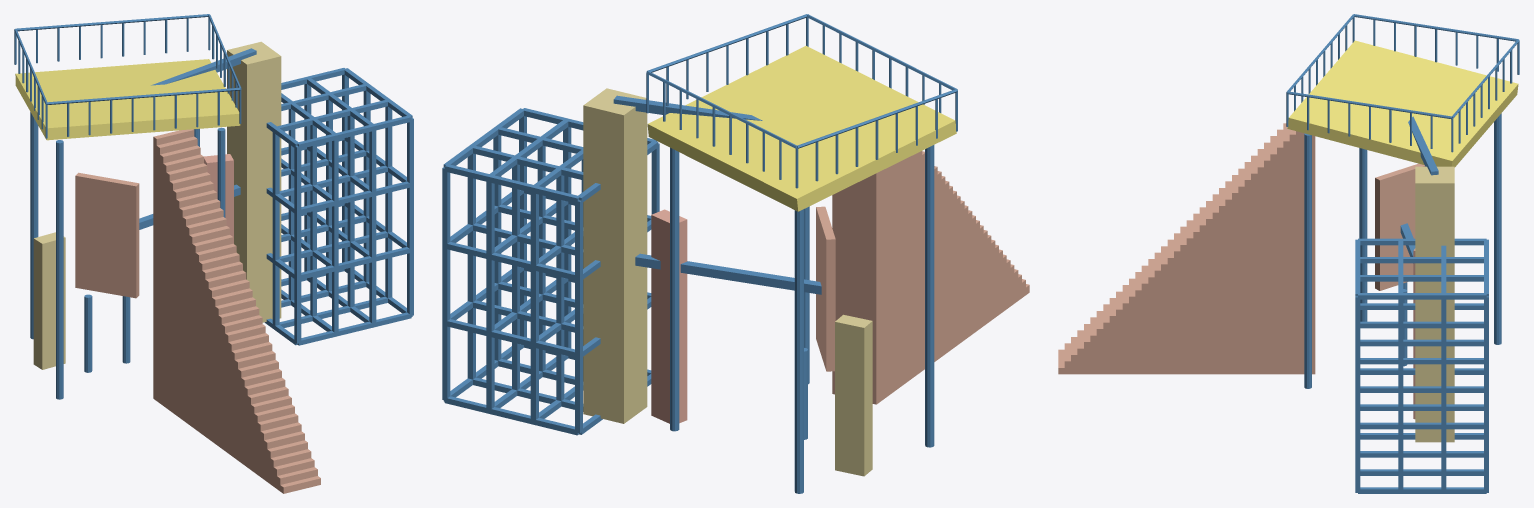
Rendered from folie_tag_106.glb.
3 renders of one model, left to right at view 1: azimuth 30°, elevation 25°; view 2: azimuth 150°, elevation 25°; view 3: azimuth 270°, elevation 25°, orthographic. The views are drawn at different scales.
Parts seen in each view (by area): view 1: folie_tag_106_stairs, folie_tag_106_00_cage, folie_tag_106_01_plate, folie_tag_106_line, folie_tag_106_core, folie_tag_106_03_panel, folie_tag_106_04_fin, folie_tag_106_02_fin; view 2: folie_tag_106_00_cage, folie_tag_106_stairs, folie_tag_106_01_plate, folie_tag_106_core, folie_tag_106_line, folie_tag_106_04_fin, folie_tag_106_02_fin, folie_tag_106_03_panel; view 3: folie_tag_106_stairs, folie_tag_106_00_cage, folie_tag_106_01_plate, folie_tag_106_line, folie_tag_106_core, folie_tag_106_03_panel.
Part boxes in pixels (bbox=[...]): folie_tag_106_stairs: bbox=[153, 129, 320, 493]; folie_tag_106_00_cage: bbox=[264, 68, 413, 345]; folie_tag_106_01_plate: bbox=[15, 59, 240, 140]; folie_tag_106_line: bbox=[14, 14, 256, 399]; folie_tag_106_core: bbox=[227, 41, 281, 322]; folie_tag_106_03_panel: bbox=[75, 172, 139, 298]; folie_tag_106_04_fin: bbox=[33, 232, 65, 369]; folie_tag_106_02_fin: bbox=[204, 154, 233, 243]; folie_tag_106_00_cage: bbox=[442, 108, 659, 435]; folie_tag_106_stairs: bbox=[832, 151, 1029, 404]; folie_tag_106_01_plate: bbox=[647, 46, 956, 211]; folie_tag_106_core: bbox=[583, 88, 647, 423]; folie_tag_106_line: bbox=[613, 14, 957, 493]; folie_tag_106_04_fin: bbox=[835, 314, 872, 476]; folie_tag_106_02_fin: bbox=[651, 209, 687, 423]; folie_tag_106_03_panel: bbox=[816, 206, 835, 371]; folie_tag_106_stairs: bbox=[1058, 123, 1315, 374]; folie_tag_106_00_cage: bbox=[1355, 238, 1488, 493]; folie_tag_106_01_plate: bbox=[1287, 40, 1518, 167]; folie_tag_106_line: bbox=[1286, 14, 1519, 388]; folie_tag_106_core: bbox=[1415, 166, 1454, 442]; folie_tag_106_03_panel: bbox=[1375, 163, 1425, 290].
Bounding box in the file's own units: 11.8 × 9.33 × 12.92.
